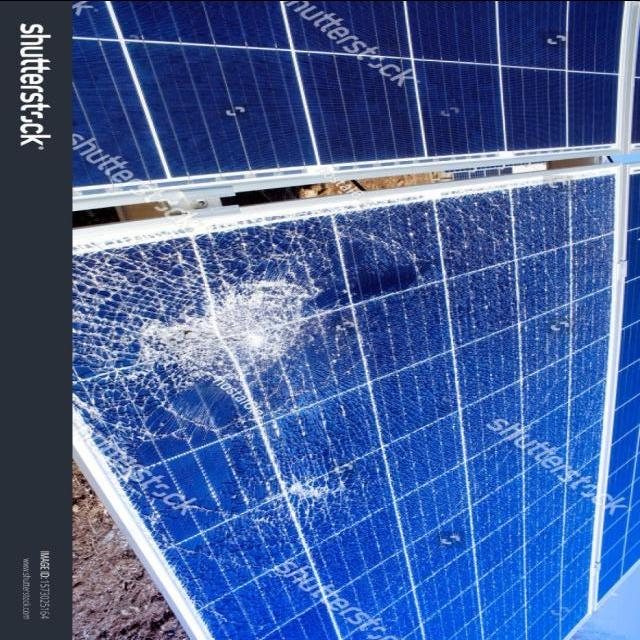cracked: (77, 180, 616, 631)
